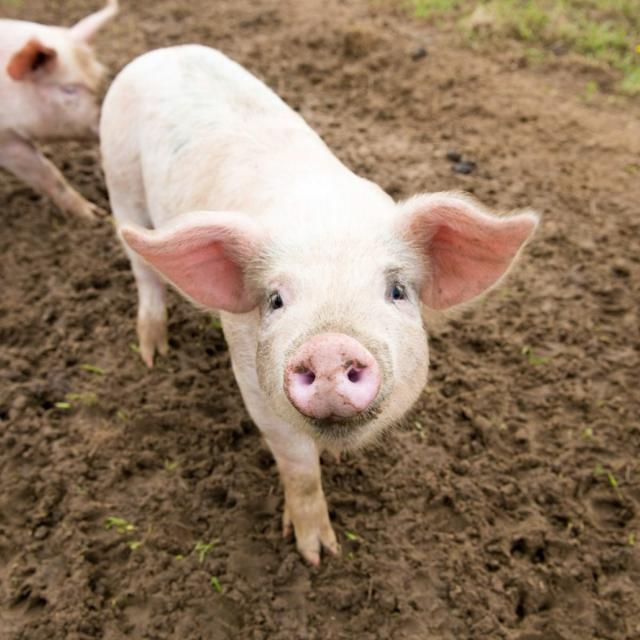pig: (99, 44, 540, 565), (0, 0, 119, 220)
